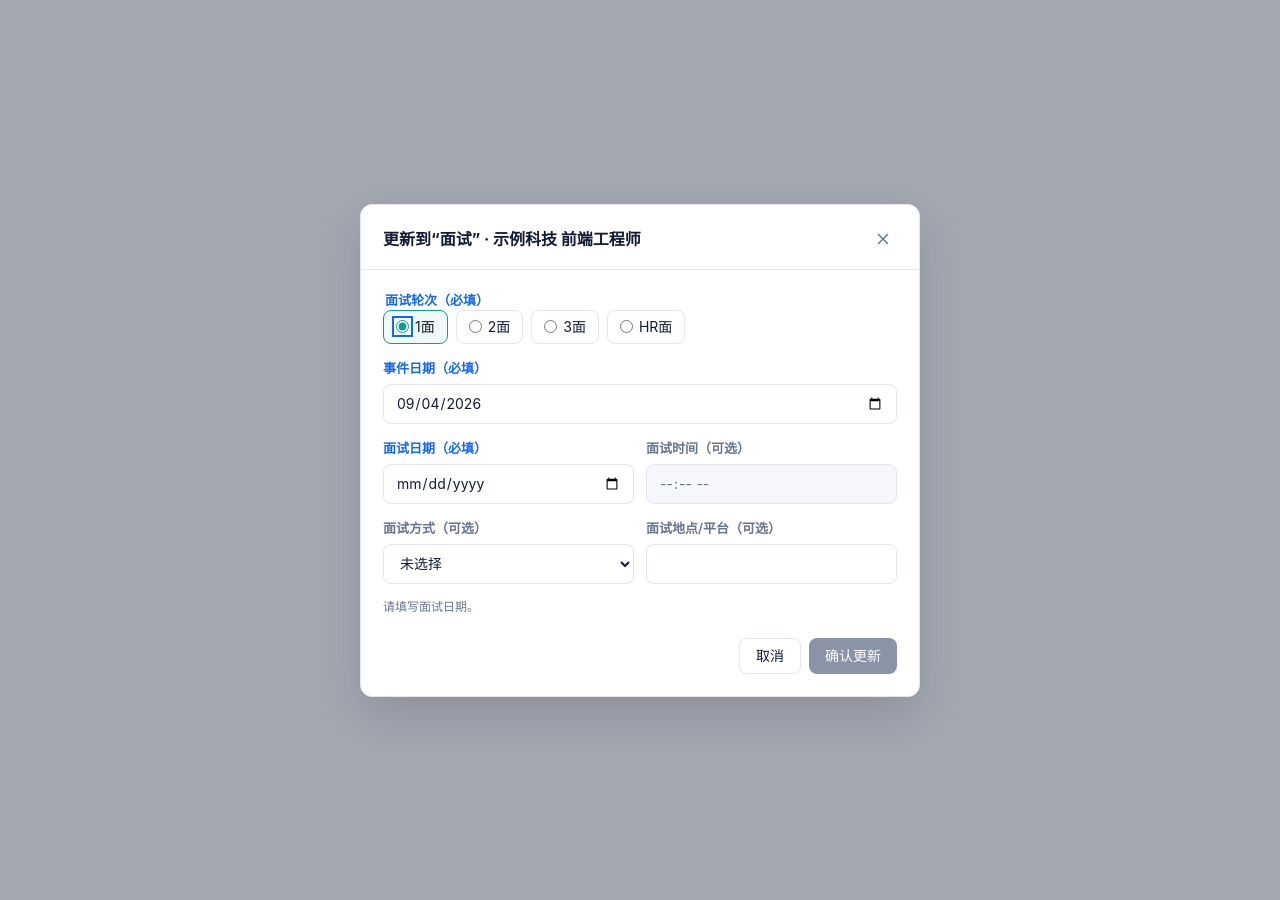
Test: StatusFormDialog › 提交返回 422 时展示后端 message 且保持打开
Type "2026-09-01" into the date field with test id "status-form-scheduled-date" at (508, 484), box [383,464,634,504]
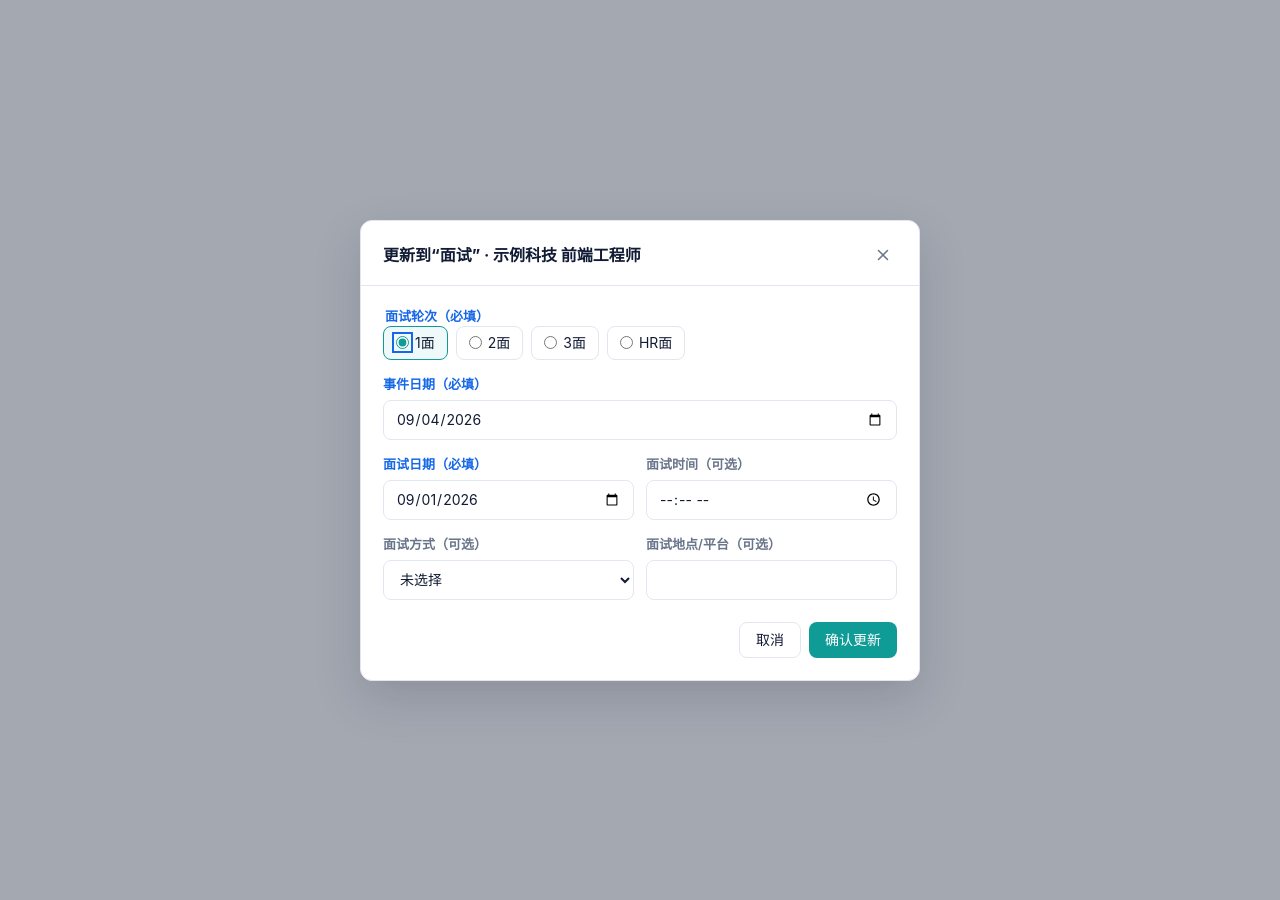
Click the button with test id "status-form-submit" at (853, 640), box [809,622,897,658]
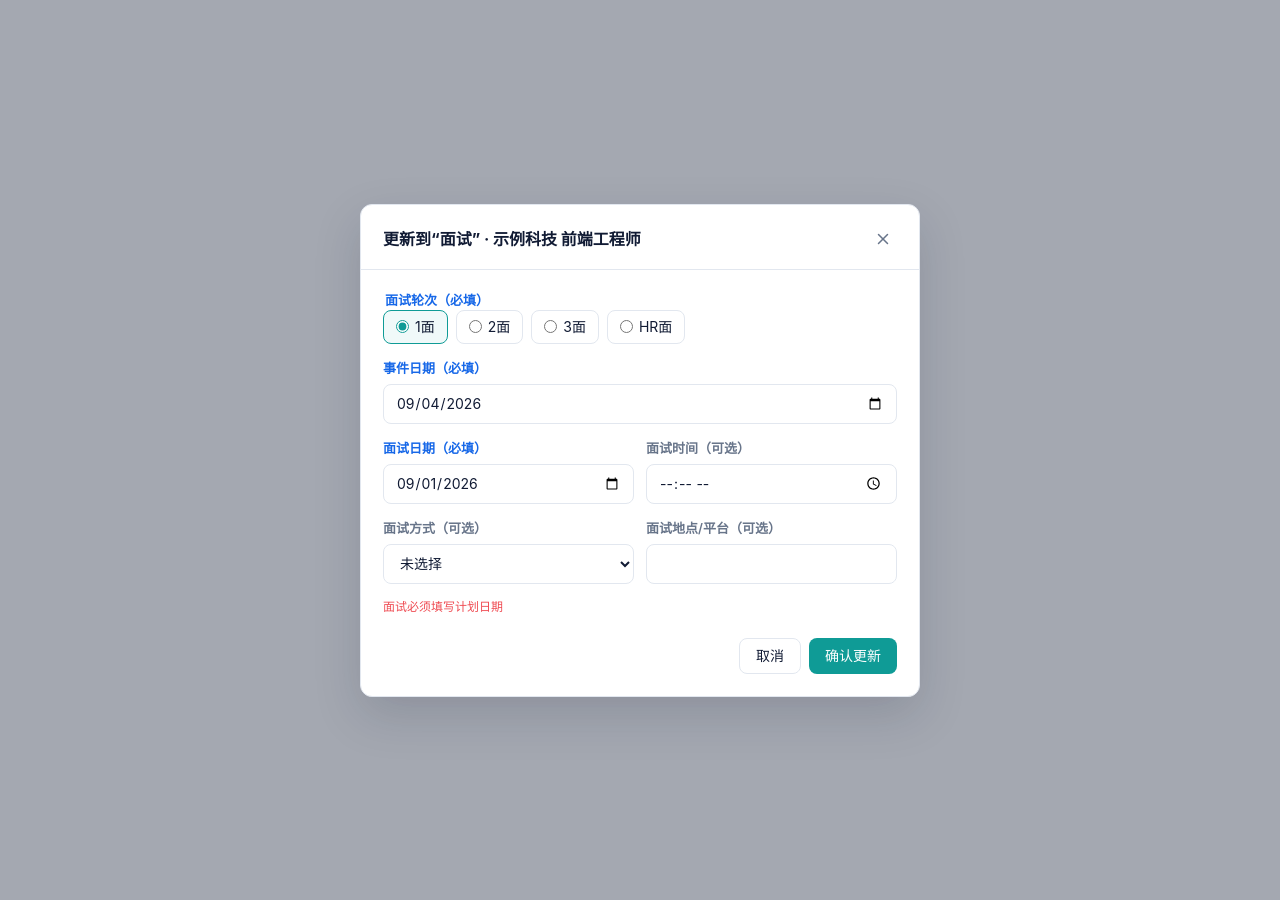
Expected: the dialog is shown, [360,204,920,696]
Expected: the message with test id "status-form-error" reads "面试必须填写计划日期", [383,598,503,614]
